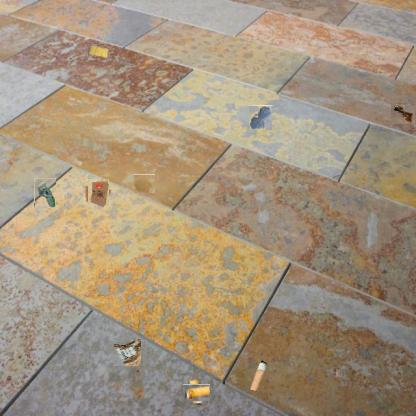dirty: (248, 358, 270, 394), (113, 338, 141, 366), (85, 182, 111, 208), (34, 178, 56, 208), (391, 104, 415, 126), (185, 382, 208, 404), (88, 44, 110, 60)
liquid: (250, 105, 274, 130), (133, 174, 155, 193)
